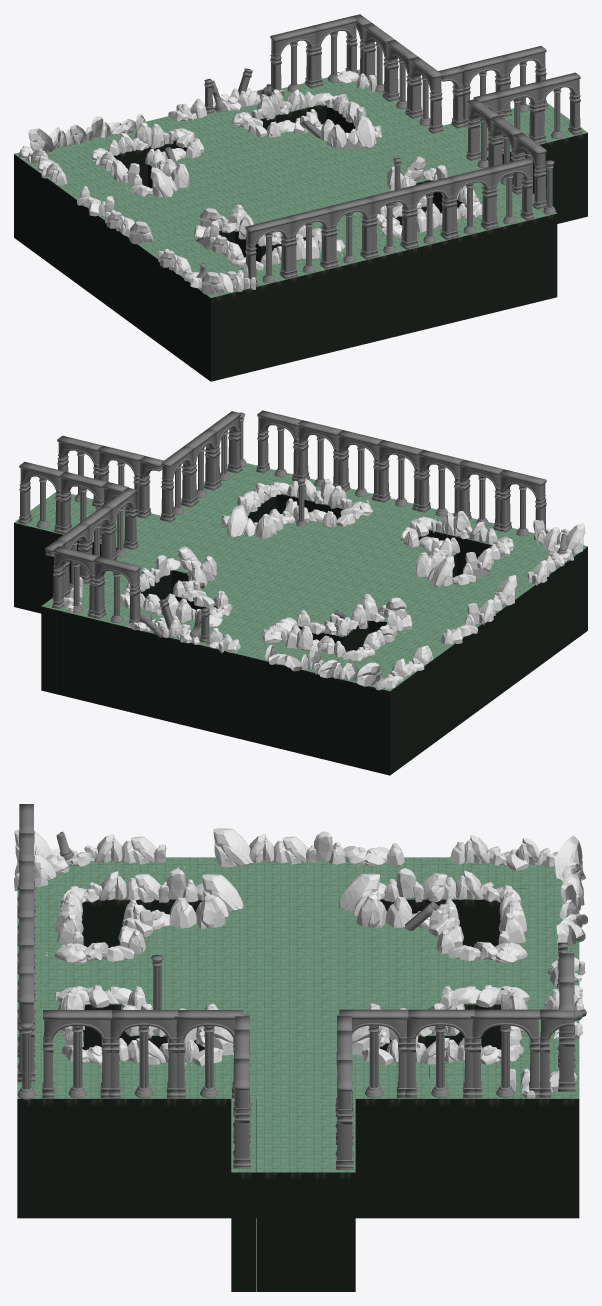
The model's file is Map_03.fbx.
3 views of the same model, one above another, from view 1: azimuth 30°, elevation 25°; view 2: azimuth 150°, elevation 25°; view 3: azimuth 270°, elevation 25° (orthographic). The views are drawn at different scales.
Visible parts, largest first — view 1: Sea_Temple_Map_03, Sea_Temple_Map_03.001, Sea_Temple_Map_03.002; view 2: Sea_Temple_Map_03, Sea_Temple_Map_03.001, Sea_Temple_Map_03.002; view 3: Sea_Temple_Map_03, Sea_Temple_Map_03.002, Sea_Temple_Map_03.001.
Part boxes in pixels (x1,y1,x2,y2): Sea_Temple_Map_03: (14,69,587,381); Sea_Temple_Map_03.001: (164,14,581,287); Sea_Temple_Map_03.002: (18,70,482,294); Sea_Temple_Map_03: (14,463,587,775); Sea_Temple_Map_03.001: (18,410,567,642); Sea_Temple_Map_03.002: (63,478,585,690); Sea_Temple_Map_03: (17,857,579,1291); Sea_Temple_Map_03.002: (14,828,587,1098); Sea_Temple_Map_03.001: (17,804,586,1169).
Size of the model in its own units: 12096 by 3554 by 9196.
